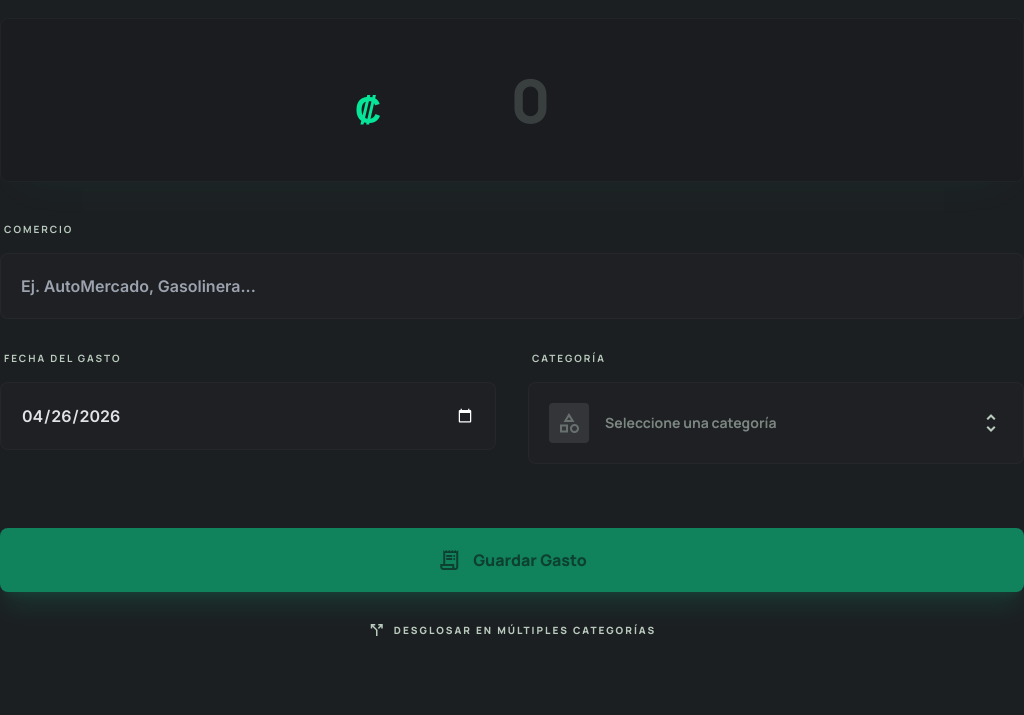
it: ExpenseRegistrationForm.vue › Should_DisableSubmitButton_When_RunningSum_DoesNotMatch_TotalAmount in Itemized Mode
Click the button with test id "expense-toggle-split".
click(512, 630)  # box [368,616,656,644]
(page scrolled)
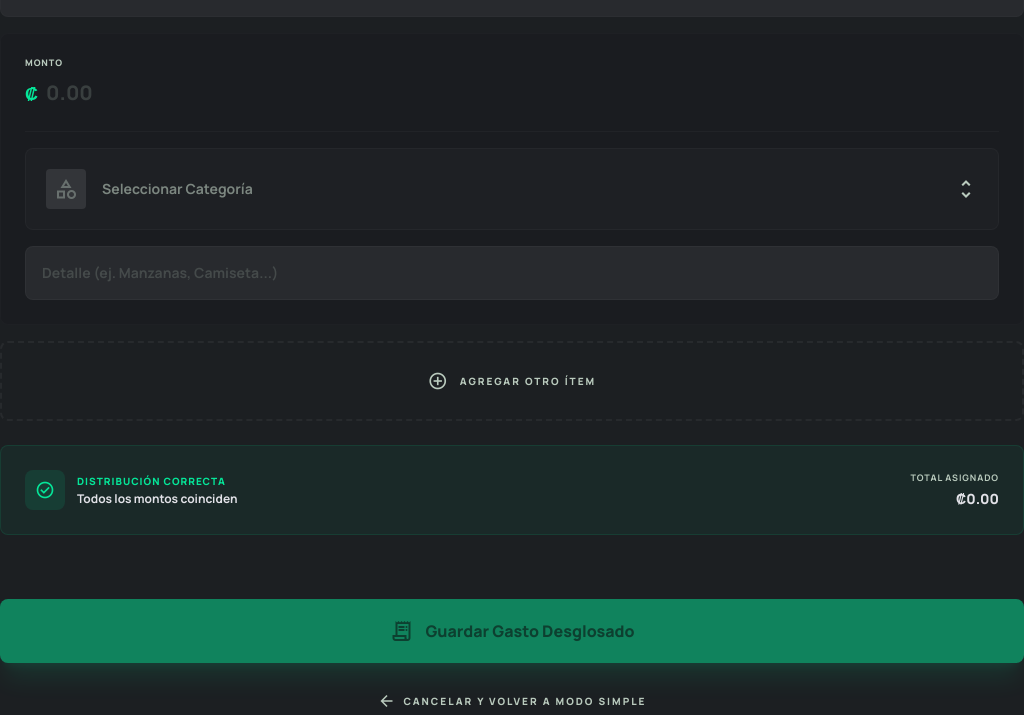
Click the button with test id "expense-cancel-split".
click(512, 701)  # box [378,687,646,714]
(page scrolled)
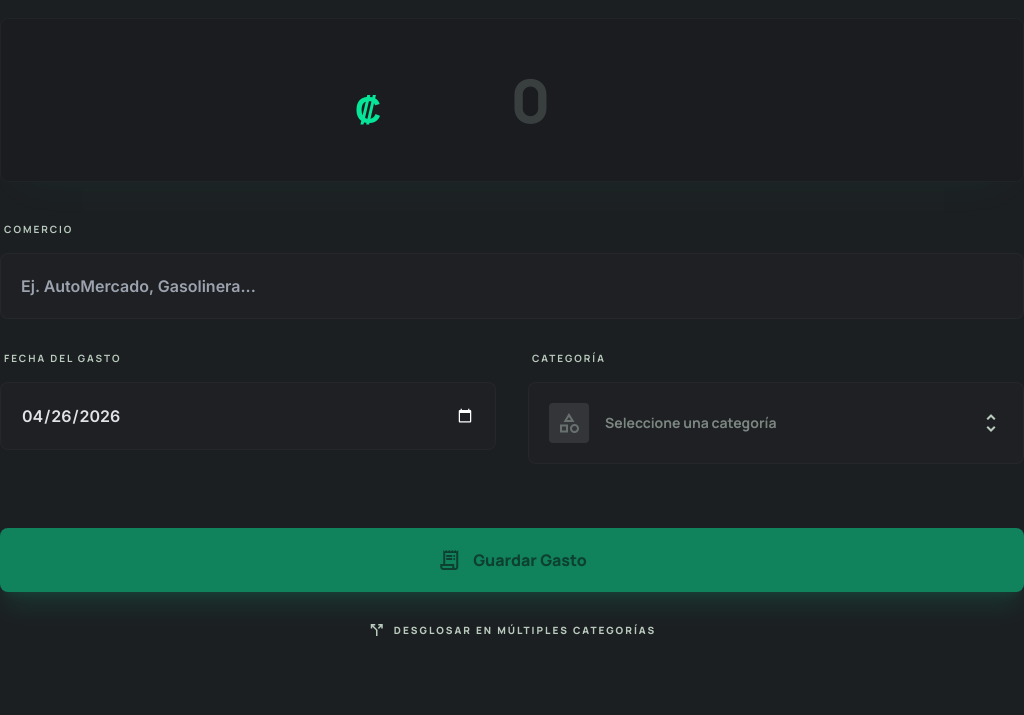
Type "Test Merchant" into the field with test id "expense-merchant-input".
click(512, 286); type("Test Merchant")  # box [0,253,1023,319]
Type "2025-01-01" into the date field with test id "expense-simple-date".
click(248, 416); type("2025-01-01")  # box [0,382,496,450]
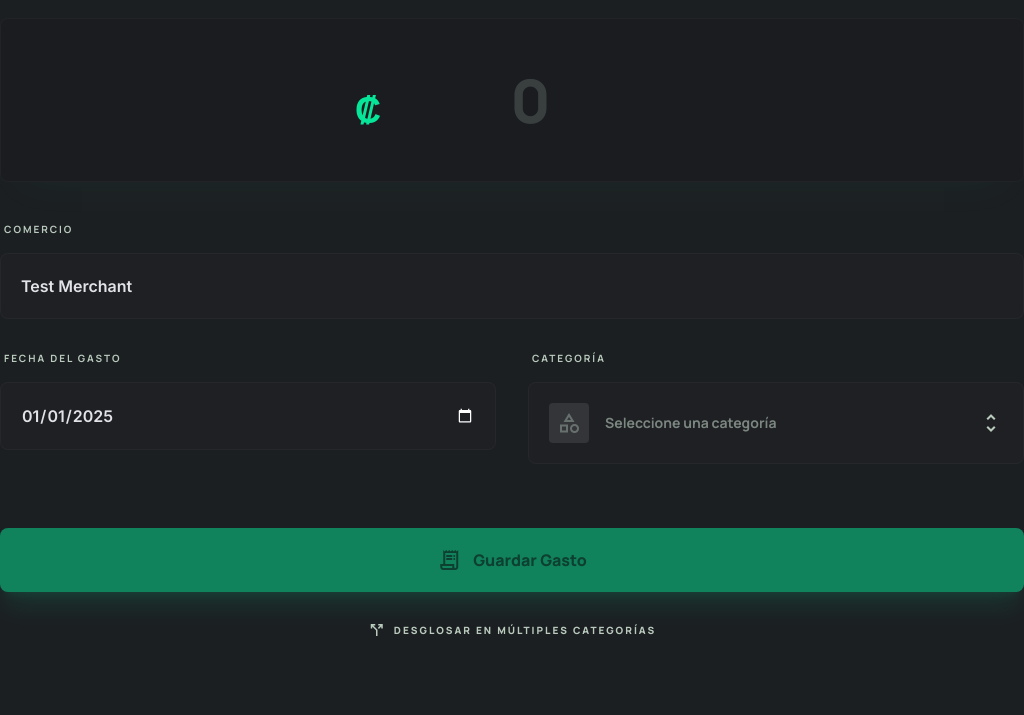
Type "100" into the number field labelled "Monto del Gasto".
click(529, 100); type("100")  # box [389,59,669,141]
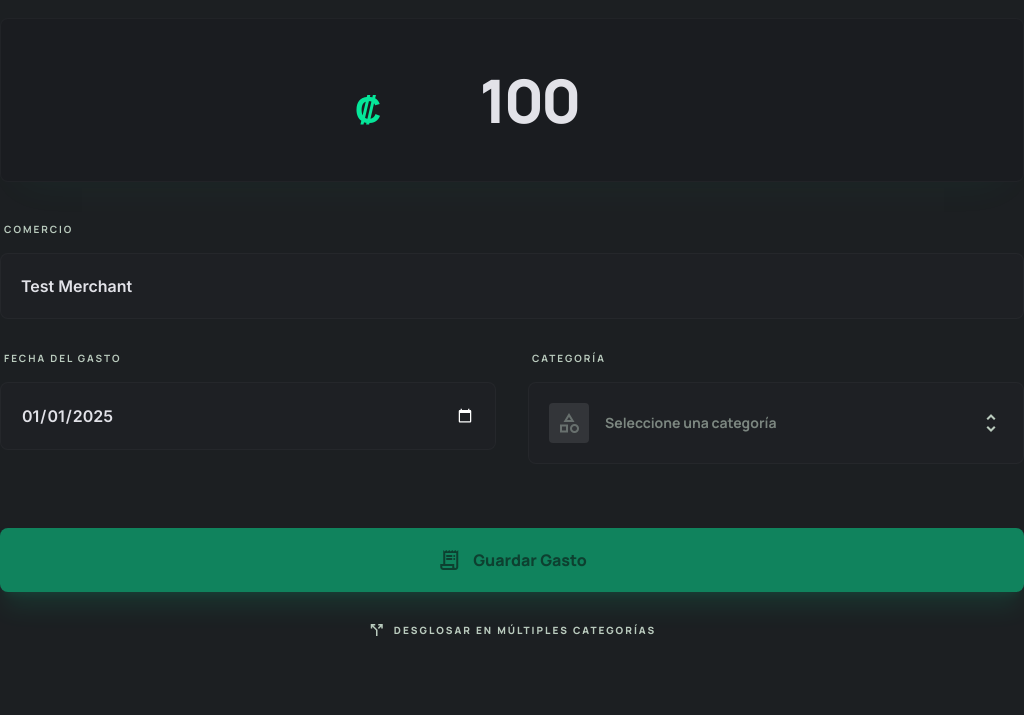
Click the button with test id "expense-toggle-split".
click(512, 630)  # box [368,616,656,644]
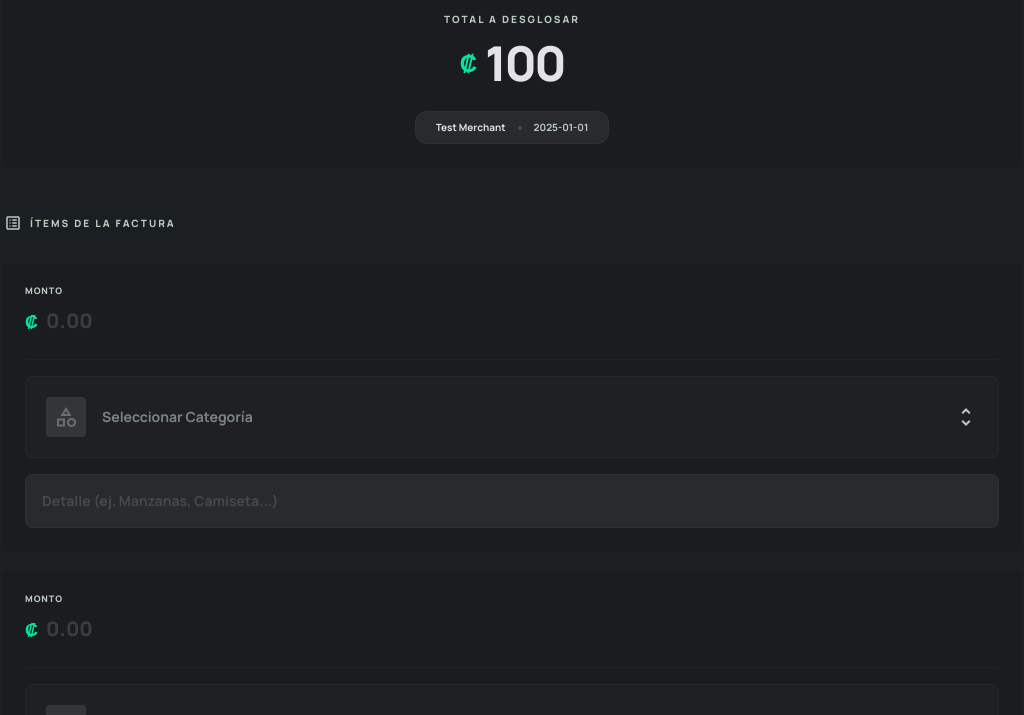
Type "50" into the 1st number field with placeholder "0.00".
click(172, 321); type("50")  # box [46,307,298,335]
(page scrolled)
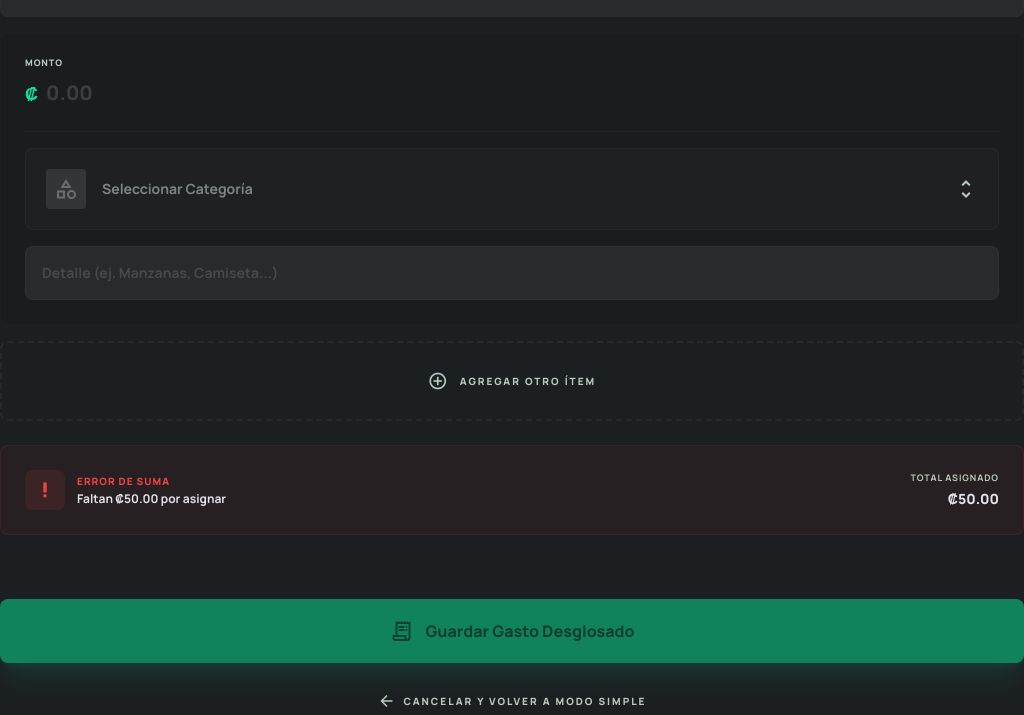
Expected: the button with test id "expense-form-submit" is disabled, [0,599,1023,663]
Result: the text "Faltan ₡50.00 por asignar" is shown at [77,490,226,506]
